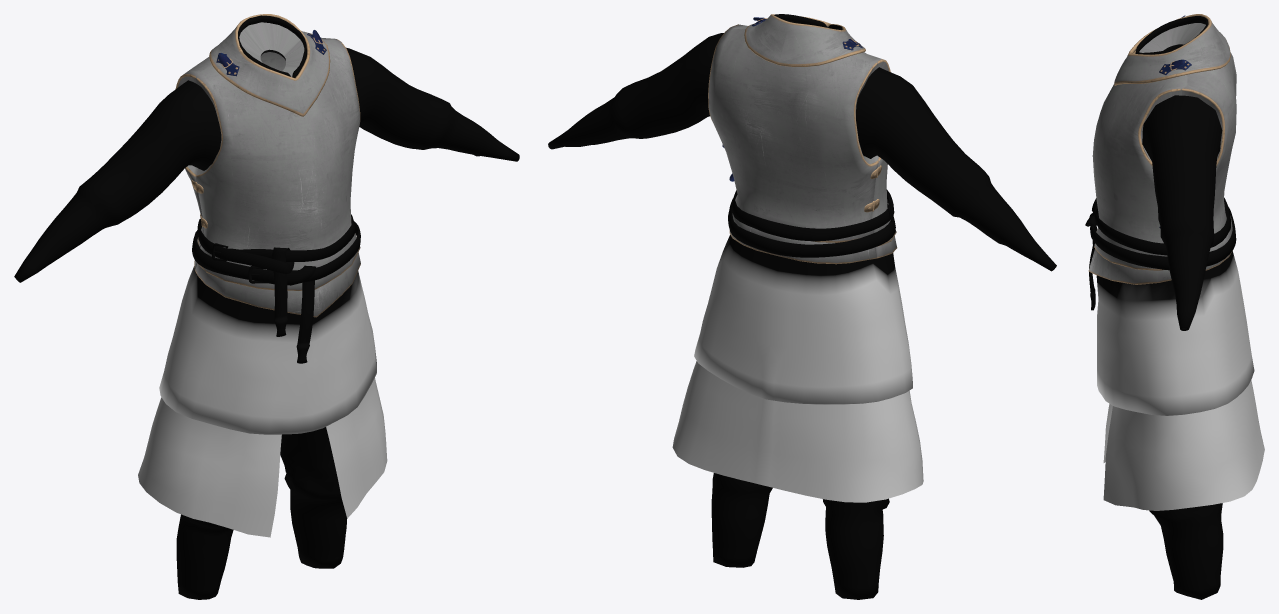
Rendered from swan_knight_armor_1a_t2_slim.fbx.
The picture shows the model from 3 angles, left to right: view 1: azimuth 30°, elevation 25°; view 2: azimuth 150°, elevation 25°; view 3: azimuth 270°, elevation 25°; orthographic projection. The views are drawn at different scales.
Parts seen in each view (by area): view 1: swan_knight_armor_1a_t2_slim.0, swan_knight_armor_1a_t2_slim.1; view 2: swan_knight_armor_1a_t2_slim.0, swan_knight_armor_1a_t2_slim.1; view 3: swan_knight_armor_1a_t2_slim.0, swan_knight_armor_1a_t2_slim.1.
Part boxes in pixels (x1,y1,x2,y2): swan_knight_armor_1a_t2_slim.0: (14, 15, 519, 599); swan_knight_armor_1a_t2_slim.1: (175, 14, 360, 317); swan_knight_armor_1a_t2_slim.0: (548, 14, 1056, 599); swan_knight_armor_1a_t2_slim.1: (708, 14, 897, 264); swan_knight_armor_1a_t2_slim.0: (1085, 16, 1264, 599); swan_knight_armor_1a_t2_slim.1: (1088, 14, 1236, 284).
Size of the model in its own units: 1.3 by 0.4125 by 1.37.
